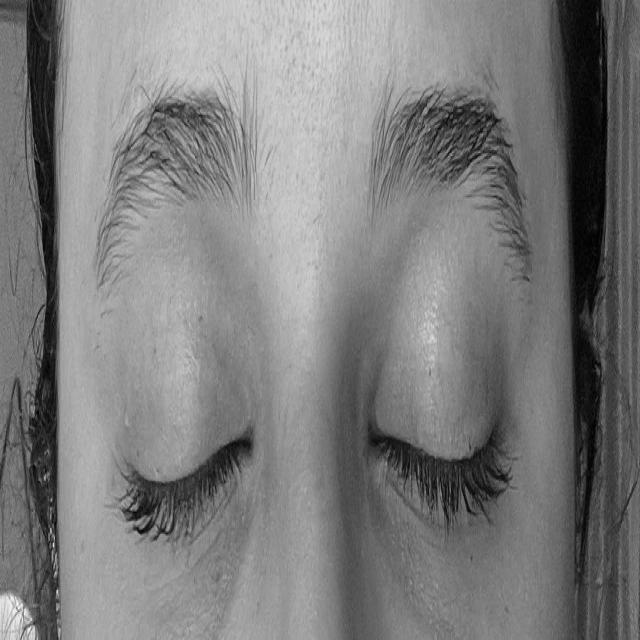real: (97, 225, 533, 609)
